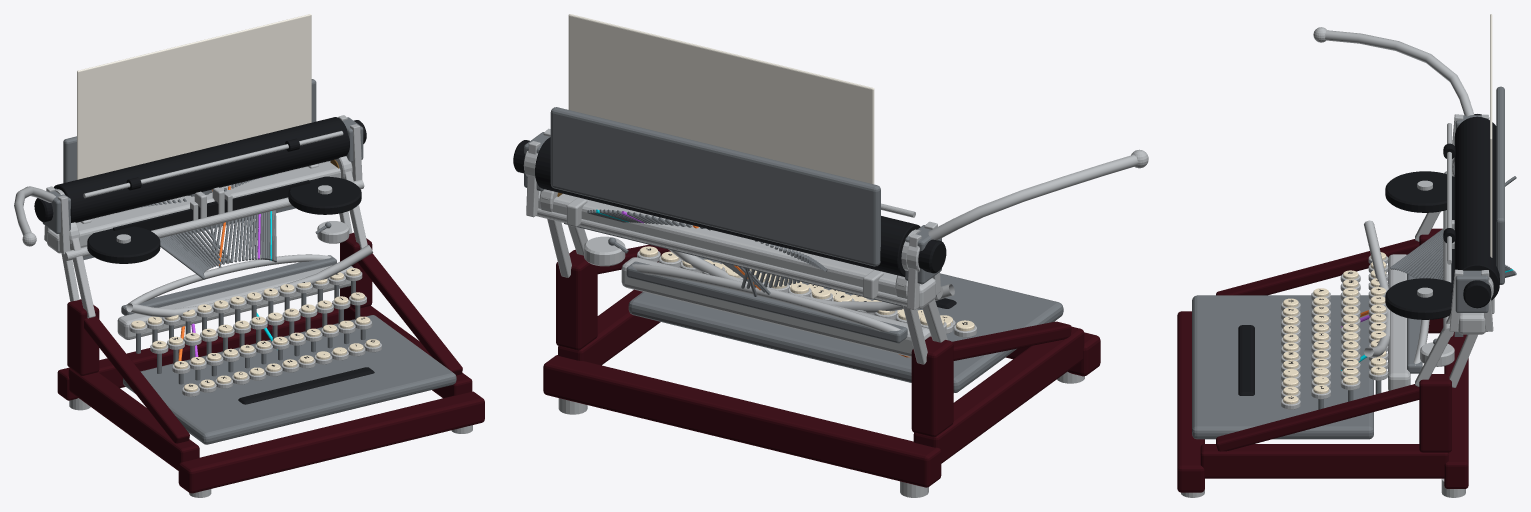
Rendered from typewriter-mechanism.glb.
The picture shows the model from 3 angles, left to right: view 1: azimuth 30°, elevation 25°; view 2: azimuth 150°, elevation 25°; view 3: azimuth 270°, elevation 25°; orthographic projection. The views are drawn at different scales.
Parts seen in each view (by area): view 1: PAPER_MESH, FRAME_KEYBED, PLATEN_MESH, FRAME_BASE_FRONT, FRAME_SIDE_LEFT, CARRIAGE_FRAME, FRAME_BASE_REAR, FRAME_OPEN_RAIL_LEFT, FRAME_TYPEBASKET_SUPPORT, FRAME_OPEN_RAIL_RIGHT, TYPEBASKET_COMB, RIBBON_LEFT_SPOOL_MESH (+19 smaller); view 2: PAPER_MESH, PAPER_GUIDE_REAR, FRAME_BASE_REAR, FRAME_KEYBED, FRAME_SIDE_LEFT, CARRIAGE_FRAME, FRAME_TYPEBASKET_SUPPORT, FRAME_CARRIAGE_TOWER_LEFT, TYPEBASKET_COMB, FRAME_CARRIAGE_TOWER_RIGHT, PLATEN_MESH, FRAME_SIDE_RIGHT (+10 smaller); view 3: FRAME_KEYBED, FRAME_SIDE_RIGHT, PLATEN_MESH, FRAME_OPEN_RAIL_RIGHT, FRAME_BASE_FRONT, FRAME_OPEN_RAIL_LEFT, FRAME_CARRIAGE_TOWER_RIGHT, FRAME_BASE_REAR, RIBBON_RIGHT_SPOOL_MESH, RIBBON_LEFT_SPOOL_MESH, RETURN_LEVER_MESH, FRAME_TYPEBASKET_SUPPORT (+14 smaller).
Boxes of the visible parts, left/top/right/bottom form: PAPER_MESH: left=77, top=14, right=311, bottom=179; FRAME_KEYBED: left=123, top=315, right=456, bottom=444; PLATEN_MESH: left=53, top=117, right=349, bottom=222; FRAME_BASE_FRONT: left=178, top=391, right=484, bottom=493; FRAME_SIDE_LEFT: left=68, top=368, right=199, bottom=470; CARRIAGE_FRAME: left=47, top=161, right=340, bottom=253; FRAME_BASE_REAR: left=57, top=303, right=338, bottom=400; FRAME_OPEN_RAIL_LEFT: left=84, top=316, right=189, bottom=443; FRAME_TYPEBASKET_SUPPORT: left=117, top=265, right=353, bottom=339; FRAME_OPEN_RAIL_RIGHT: left=357, top=253, right=462, bottom=375; TYPEBASKET_COMB: left=121, top=255, right=336, bottom=315; RIBBON_LEFT_SPOOL_MESH: left=87, top=226, right=160, bottom=263; PAPER_MESH: left=568, top=14, right=874, bottom=184; PAPER_GUIDE_REAR: left=550, top=107, right=880, bottom=266; FRAME_BASE_REAR: left=543, top=355, right=941, bottom=487; FRAME_KEYBED: left=628, top=256, right=1063, bottom=392; FRAME_SIDE_LEFT: left=913, top=326, right=1084, bottom=463; CARRIAGE_FRAME: left=536, top=191, right=935, bottom=309; FRAME_TYPEBASKET_SUPPORT: left=621, top=257, right=931, bottom=357; FRAME_CARRIAGE_TOWER_LEFT: left=911, top=336, right=953, bottom=437; TYPEBASKET_COMB: left=626, top=261, right=907, bottom=343; FRAME_CARRIAGE_TOWER_RIGHT: left=556, top=249, right=597, bottom=350; PLATEN_MESH: left=535, top=137, right=920, bottom=276; FRAME_SIDE_RIGHT: left=558, top=289, right=660, bottom=365; FRAME_KEYBED: left=1192, top=295, right=1373, bottom=439; FRAME_SIDE_RIGHT: left=1200, top=444, right=1448, bottom=478; PLATEN_MESH: left=1454, top=116, right=1499, bottom=300; FRAME_OPEN_RAIL_RIGHT: left=1216, top=384, right=1419, bottom=451; FRAME_BASE_FRONT: left=1177, top=311, right=1204, bottom=492; FRAME_OPEN_RAIL_LEFT: left=1216, top=239, right=1419, bottom=295; FRAME_CARRIAGE_TOWER_RIGHT: left=1419, top=374, right=1451, bottom=452; FRAME_BASE_REAR: left=1444, top=332, right=1468, bottom=488; RIBBON_RIGHT_SPOOL_MESH: left=1385, top=278, right=1452, bottom=319; RIBBON_LEFT_SPOOL_MESH: left=1385, top=171, right=1454, bottom=212; RETURN_LEVER_MESH: left=1325, top=30, right=1474, bottom=116; FRAME_TYPEBASKET_SUPPORT: left=1388, top=254, right=1410, bottom=390.
Bounding box in the file's own units: 0.594 × 0.442 × 0.3915.
